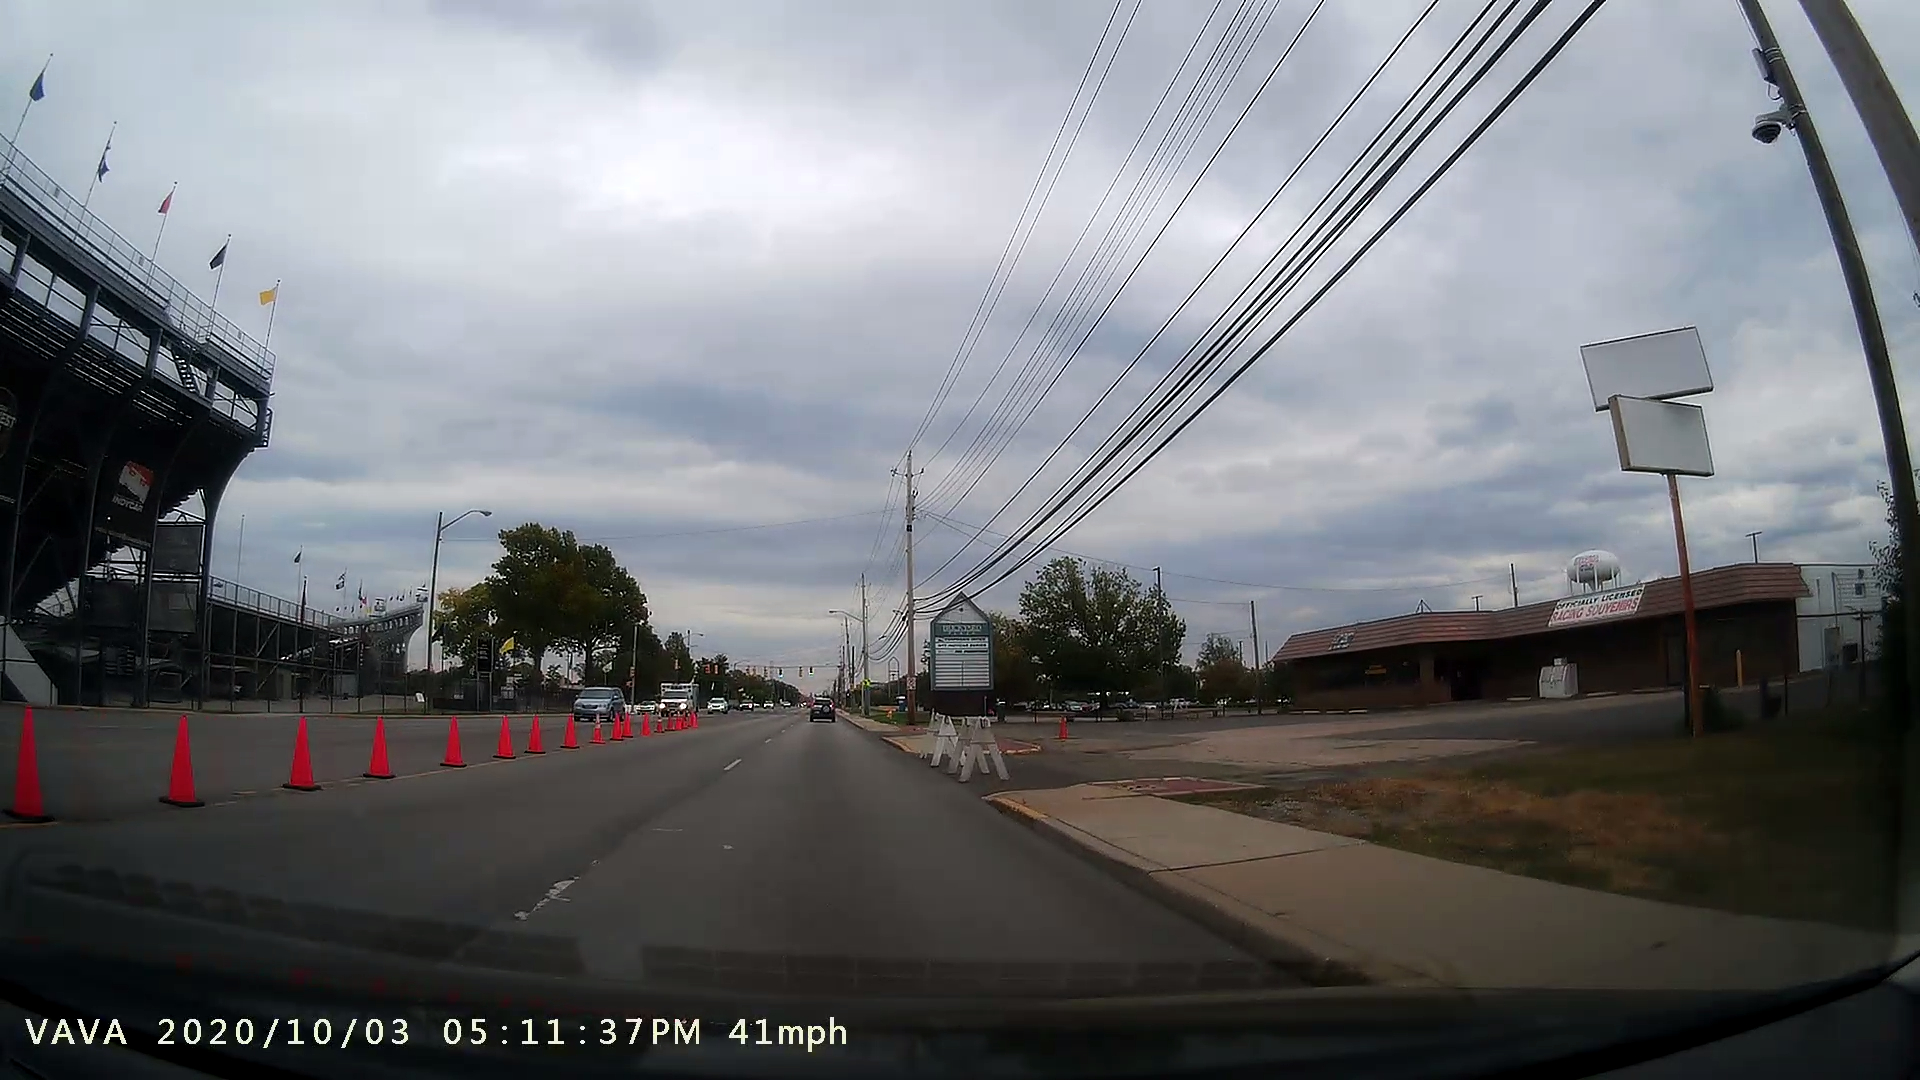const_cone: (0, 698, 59, 851), (156, 698, 211, 835), (353, 702, 415, 796), (280, 702, 331, 804), (434, 699, 477, 777), (483, 704, 518, 762)
